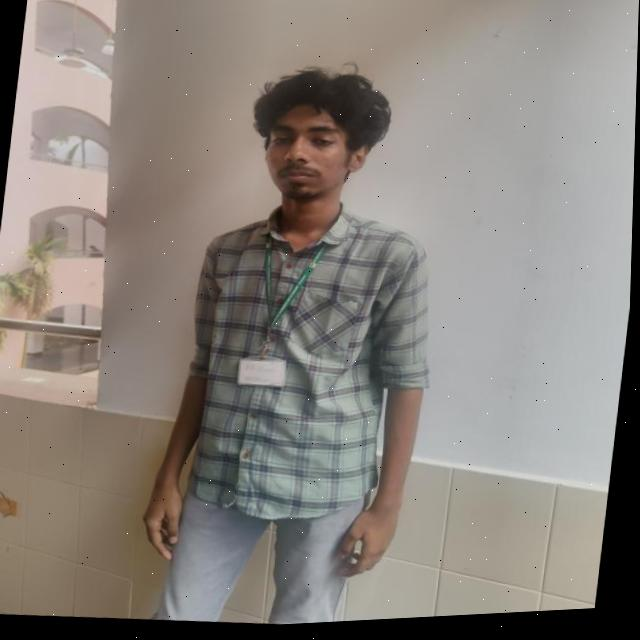id_card: (229, 215, 322, 399)
